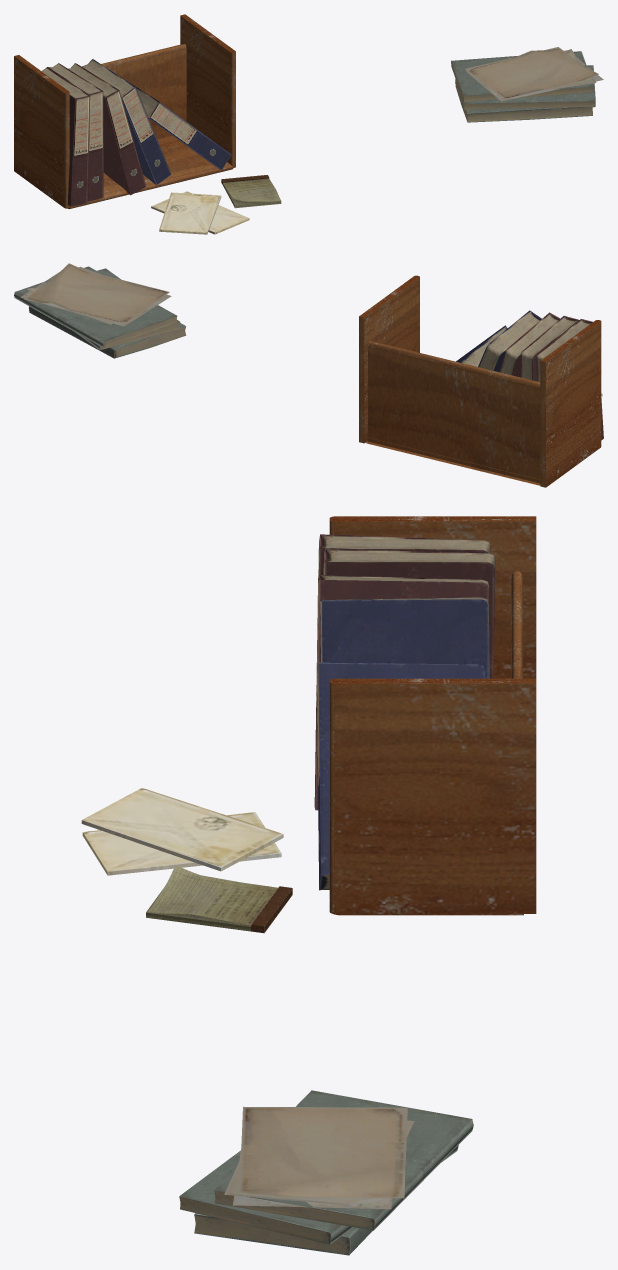
The model's file is sm39_182_chiefdeskset01a.fbx.
The picture shows the model from 3 angles, top to bottom: view 1: azimuth 30°, elevation 25°; view 2: azimuth 150°, elevation 25°; view 3: azimuth 270°, elevation 25°; orthographic projection. The views are drawn at different scales.
Visible parts, largest first — view 1: LOD_1_Group_1_Sub_1__sm30_147_OfficeDesk01A_A_Mat, LOD_1_Group_10_Sub_2__sm36_007_PaperWork01A_A_Mat, LOD_1_Group_10_Sub_1__sm36_011_Document01A_A_Mat, LOD_1_Group_4_Sub_1__sm36_007_PaperWork01A_A_Mat, LOD_1_Group_5_Sub_1__sm36_007_PaperWork01A_A_Mat, LOD_1_Group_2_Sub_1__sm36_007_PaperWork01A_A_Mat, LOD_1_Group_3_Sub_1__sm36_007_PaperWork01A_A_Mat, LOD_1_Group_6_Sub_1__sm36_007_PaperWork01A_A_Mat, LOD_1_Group_7_Sub_1__sm36_008_Envelope01A_A, LOD_1_Group_9_Sub_1__sm36_013_Notepad01A_A_Mat, LOD_1_Group_8_Sub_1__sm36_008_Envelope01A_A; view 2: LOD_1_Group_1_Sub_1__sm30_147_OfficeDesk01A_A_Mat, LOD_1_Group_10_Sub_1__sm36_011_Document01A_A_Mat, LOD_1_Group_10_Sub_2__sm36_007_PaperWork01A_A_Mat, LOD_1_Group_5_Sub_1__sm36_007_PaperWork01A_A_Mat, LOD_1_Group_3_Sub_1__sm36_007_PaperWork01A_A_Mat, LOD_1_Group_4_Sub_1__sm36_007_PaperWork01A_A_Mat, LOD_1_Group_2_Sub_1__sm36_007_PaperWork01A_A_Mat, LOD_1_Group_6_Sub_1__sm36_007_PaperWork01A_A_Mat; view 3: LOD_1_Group_1_Sub_1__sm30_147_OfficeDesk01A_A_Mat, LOD_1_Group_10_Sub_1__sm36_011_Document01A_A_Mat, LOD_1_Group_10_Sub_2__sm36_007_PaperWork01A_A_Mat, LOD_1_Group_5_Sub_1__sm36_007_PaperWork01A_A_Mat, LOD_1_Group_7_Sub_1__sm36_008_Envelope01A_A, LOD_1_Group_9_Sub_1__sm36_013_Notepad01A_A_Mat, LOD_1_Group_3_Sub_1__sm36_007_PaperWork01A_A_Mat, LOD_1_Group_6_Sub_1__sm36_007_PaperWork01A_A_Mat, LOD_1_Group_4_Sub_1__sm36_007_PaperWork01A_A_Mat, LOD_1_Group_8_Sub_1__sm36_008_Envelope01A_A, LOD_1_Group_2_Sub_1__sm36_007_PaperWork01A_A_Mat.
Part boxes in pixels (x1,y1,x2,y2): LOD_1_Group_1_Sub_1__sm30_147_OfficeDesk01A_A_Mat: [14, 14, 235, 208]; LOD_1_Group_10_Sub_2__sm36_007_PaperWork01A_A_Mat: [451, 51, 595, 122]; LOD_1_Group_10_Sub_1__sm36_011_Document01A_A_Mat: [465, 47, 603, 101]; LOD_1_Group_4_Sub_1__sm36_007_PaperWork01A_A_Mat: [68, 63, 146, 195]; LOD_1_Group_5_Sub_1__sm36_007_PaperWork01A_A_Mat: [82, 59, 171, 184]; LOD_1_Group_2_Sub_1__sm36_007_PaperWork01A_A_Mat: [41, 68, 90, 206]; LOD_1_Group_3_Sub_1__sm36_007_PaperWork01A_A_Mat: [46, 63, 103, 201]; LOD_1_Group_6_Sub_1__sm36_007_PaperWork01A_A_Mat: [118, 75, 231, 170]; LOD_1_Group_7_Sub_1__sm36_008_Envelope01A_A: [159, 192, 221, 234]; LOD_1_Group_9_Sub_1__sm36_013_Notepad01A_A_Mat: [221, 175, 281, 208]; LOD_1_Group_8_Sub_1__sm36_008_Envelope01A_A: [151, 191, 249, 234]; LOD_1_Group_1_Sub_1__sm30_147_OfficeDesk01A_A_Mat: [359, 275, 601, 487]; LOD_1_Group_10_Sub_1__sm36_011_Document01A_A_Mat: [20, 263, 171, 326]; LOD_1_Group_10_Sub_2__sm36_007_PaperWork01A_A_Mat: [14, 266, 186, 358]; LOD_1_Group_5_Sub_1__sm36_007_PaperWork01A_A_Mat: [478, 310, 541, 371]; LOD_1_Group_3_Sub_1__sm36_007_PaperWork01A_A_Mat: [520, 316, 579, 381]; LOD_1_Group_4_Sub_1__sm36_007_PaperWork01A_A_Mat: [499, 312, 560, 377]; LOD_1_Group_2_Sub_1__sm36_007_PaperWork01A_A_Mat: [536, 319, 603, 440]; LOD_1_Group_6_Sub_1__sm36_007_PaperWork01A_A_Mat: [456, 325, 507, 366]; LOD_1_Group_1_Sub_1__sm30_147_OfficeDesk01A_A_Mat: [329, 516, 536, 915]; LOD_1_Group_10_Sub_1__sm36_011_Document01A_A_Mat: [224, 1106, 414, 1209]; LOD_1_Group_10_Sub_2__sm36_007_PaperWork01A_A_Mat: [179, 1090, 473, 1255]; LOD_1_Group_5_Sub_1__sm36_007_PaperWork01A_A_Mat: [320, 597, 489, 678]; LOD_1_Group_7_Sub_1__sm36_008_Envelope01A_A: [81, 788, 283, 871]; LOD_1_Group_9_Sub_1__sm36_013_Notepad01A_A_Mat: [146, 865, 292, 933]; LOD_1_Group_3_Sub_1__sm36_007_PaperWork01A_A_Mat: [323, 548, 495, 678]; LOD_1_Group_6_Sub_1__sm36_007_PaperWork01A_A_Mat: [317, 662, 484, 890]; LOD_1_Group_4_Sub_1__sm36_007_PaperWork01A_A_Mat: [314, 575, 489, 810]; LOD_1_Group_8_Sub_1__sm36_008_Envelope01A_A: [82, 812, 281, 875]; LOD_1_Group_2_Sub_1__sm36_007_PaperWork01A_A_Mat: [318, 534, 490, 575].
Bounding box in the file's own units: 1.72 × 0.3658 × 0.6402.
